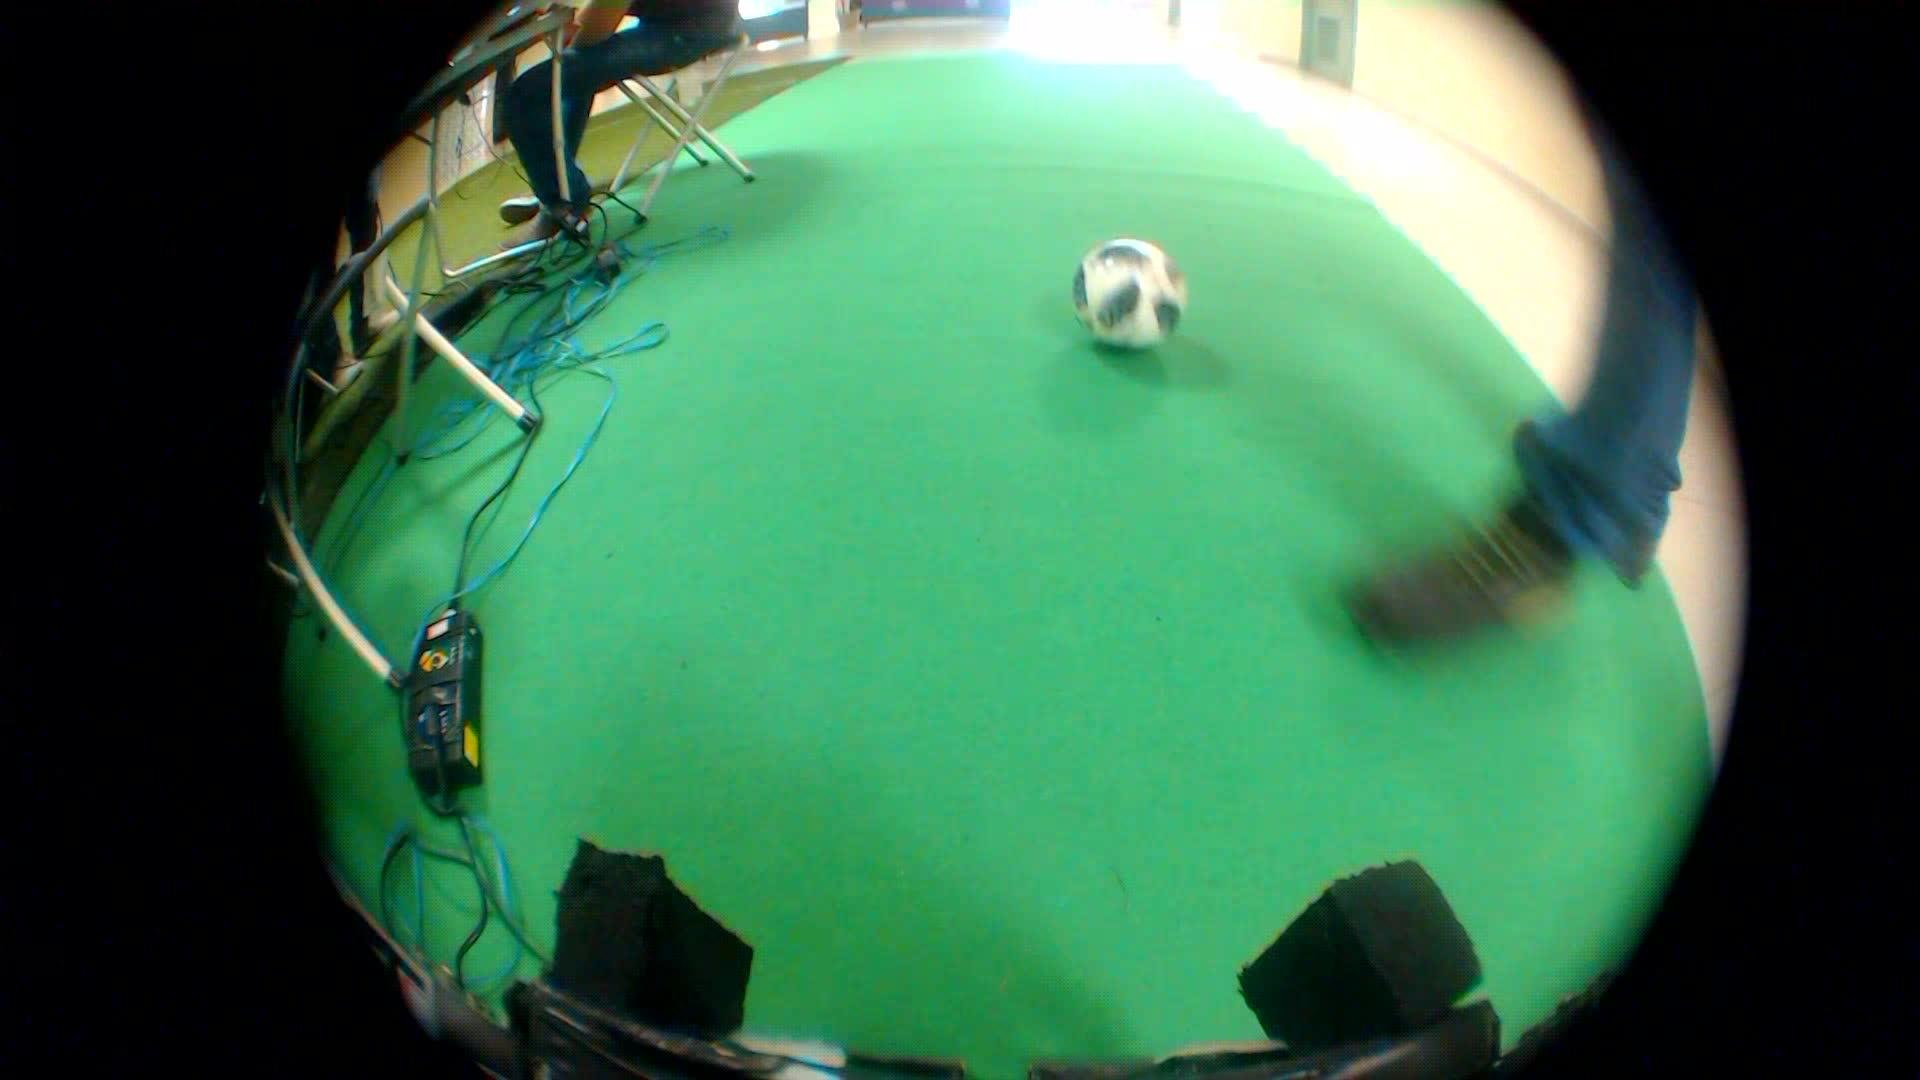ball: (1051, 223, 1193, 365)
